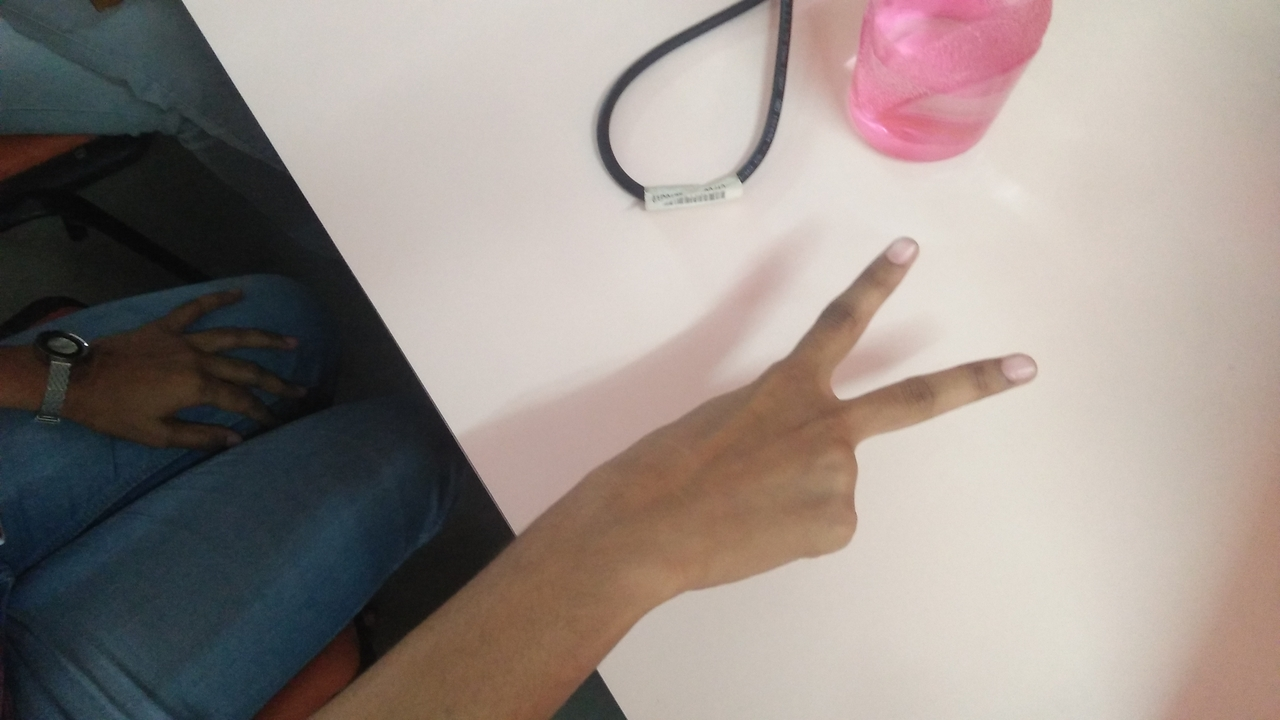fingertip: (870, 220, 934, 276), (993, 335, 1050, 392)
